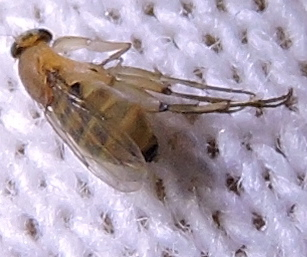phorid fly: (2, 16, 299, 201)
